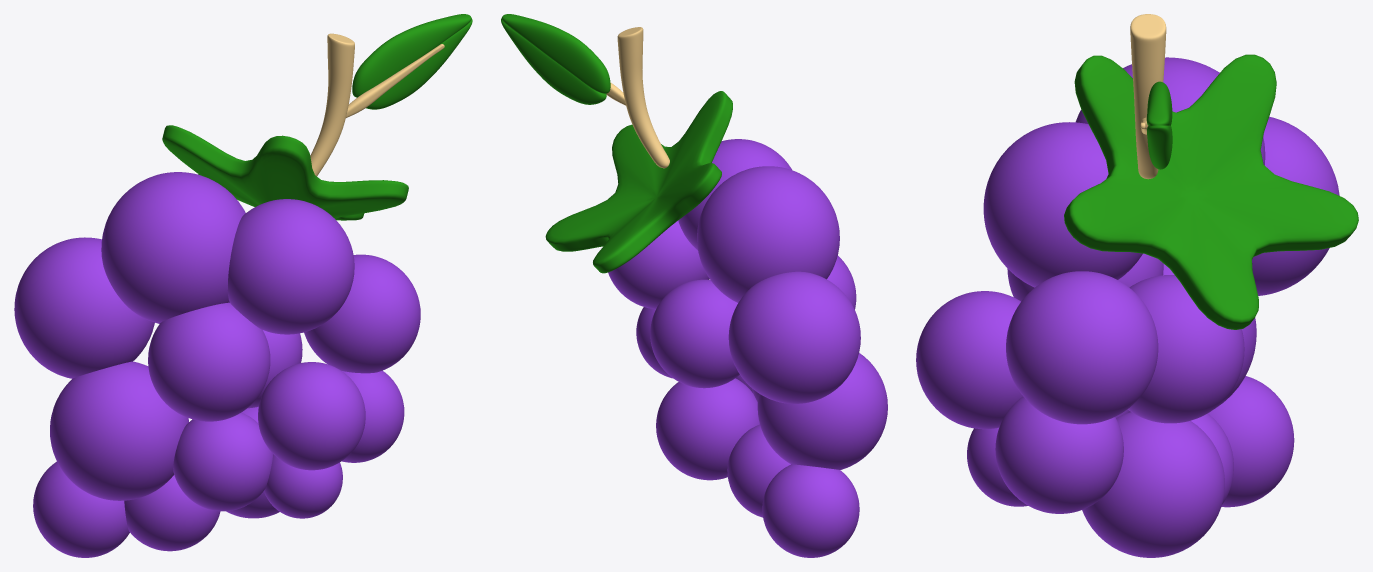
Rendered from Grape.glb.
The picture shows the model from 3 angles, left to right: view 1: azimuth 30°, elevation 25°; view 2: azimuth 150°, elevation 25°; view 3: azimuth 270°, elevation 25°; orthographic projection. The views are drawn at different scales.
Parts seen in each view (by area): view 1: Sphere.016, Sphere.007, Sphere.015, Sphere.017, Sphere.006, Plane.005, Sphere.003, Sphere.014, Sphere.004, Sphere.008, Cube.018, Sphere.011 (+6 smaller); view 2: Sphere.016, Sphere.017, Plane.005, Sphere.007, Sphere.012, Sphere.018, Sphere.008, Cube.018, Sphere.014, Sphere.011, Cube.006, Sphere.015 (+2 smaller); view 3: Plane.005, Sphere.014, Sphere.015, Sphere.012, Sphere.003, Sphere.013, Sphere.018, Sphere.008, Sphere.017, Cube.006, Sphere.016, Sphere.019 (+4 smaller).
Boxes of the visible parts, left/top/right/bottom form: Sphere.016: left=101, top=172, right=245, bottom=323; Sphere.007: left=50, top=361, right=188, bottom=500; Sphere.015: left=227, top=199, right=354, bottom=334; Sphere.017: left=14, top=237, right=154, bottom=378; Sphere.006: left=148, top=302, right=270, bottom=421; Plane.005: left=162, top=125, right=408, bottom=220; Sphere.003: left=258, top=362, right=365, bottom=470; Sphere.014: left=304, top=254, right=420, bottom=373; Sphere.004: left=173, top=412, right=272, bottom=511; Sphere.008: left=33, top=461, right=129, bottom=557; Cube.018: left=352, top=14, right=472, bottom=109; Sphere.011: left=124, top=475, right=220, bottom=551; Sphere.016: left=697, top=166, right=839, bottom=302; Sphere.017: left=728, top=271, right=860, bottom=403; Plane.005: left=545, top=91, right=732, bottom=273; Sphere.007: left=757, top=353, right=887, bottom=469; Sphere.012: left=656, top=378, right=759, bottom=480; Sphere.018: left=650, top=279, right=739, bottom=388; Sphere.008: left=762, top=464, right=859, bottom=557; Cube.018: left=501, top=14, right=610, bottom=104; Sphere.014: left=608, top=220, right=709, bottom=309; Sphere.011: left=727, top=424, right=790, bottom=517; Cube.006: left=617, top=27, right=669, bottom=168; Sphere.015: left=678, top=139, right=791, bottom=250; Plane.005: left=1064, top=54, right=1358, bottom=329; Sphere.014: left=1006, top=271, right=1158, bottom=424; Sphere.015: left=983, top=122, right=1142, bottom=287; Sphere.012: left=1082, top=412, right=1224, bottom=557; Sphere.003: left=916, top=291, right=1022, bottom=429; Sphere.013: left=995, top=396, right=1123, bottom=513; Sphere.018: left=1127, top=275, right=1244, bottom=423; Sphere.008: left=1208, top=376, right=1294, bottom=507; Sphere.017: left=1252, top=116, right=1339, bottom=295; Cube.006: left=1130, top=14, right=1166, bottom=179; Sphere.016: left=1075, top=57, right=1265, bottom=165; Sphere.019: left=967, top=427, right=1027, bottom=506.
Size of the model in its own units: 2.47 by 2.79 by 1.8.
